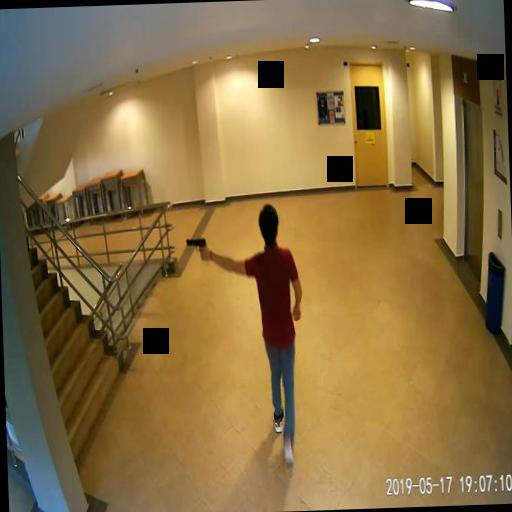Handgun: (185, 236, 205, 262)
